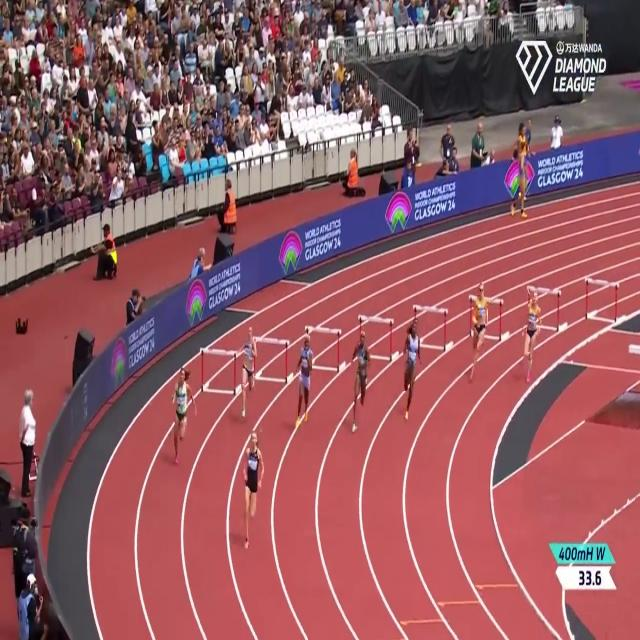athlete: (242, 423, 266, 569), (168, 363, 196, 467), (401, 313, 426, 428), (467, 273, 491, 392), (348, 328, 374, 436), (237, 321, 260, 427), (522, 286, 543, 391), (294, 332, 313, 434)
hurdle: (301, 325, 347, 383), (199, 341, 239, 404), (468, 289, 512, 346), (357, 312, 399, 364), (584, 272, 620, 332), (412, 300, 451, 353), (528, 280, 563, 332), (252, 338, 291, 382)
